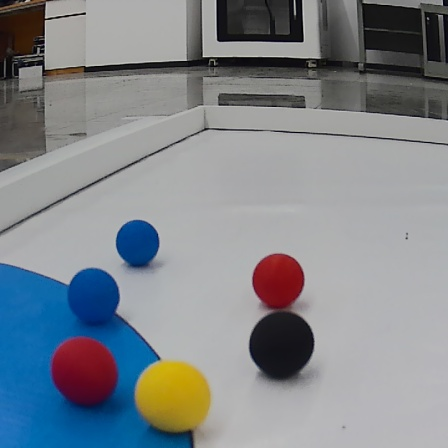black: (248, 312, 319, 376)
blue: (68, 264, 125, 325), (112, 215, 161, 266)
blue_base: (0, 261, 196, 446)
red: (50, 337, 118, 407), (254, 253, 304, 312)
yellow: (134, 359, 212, 433)
